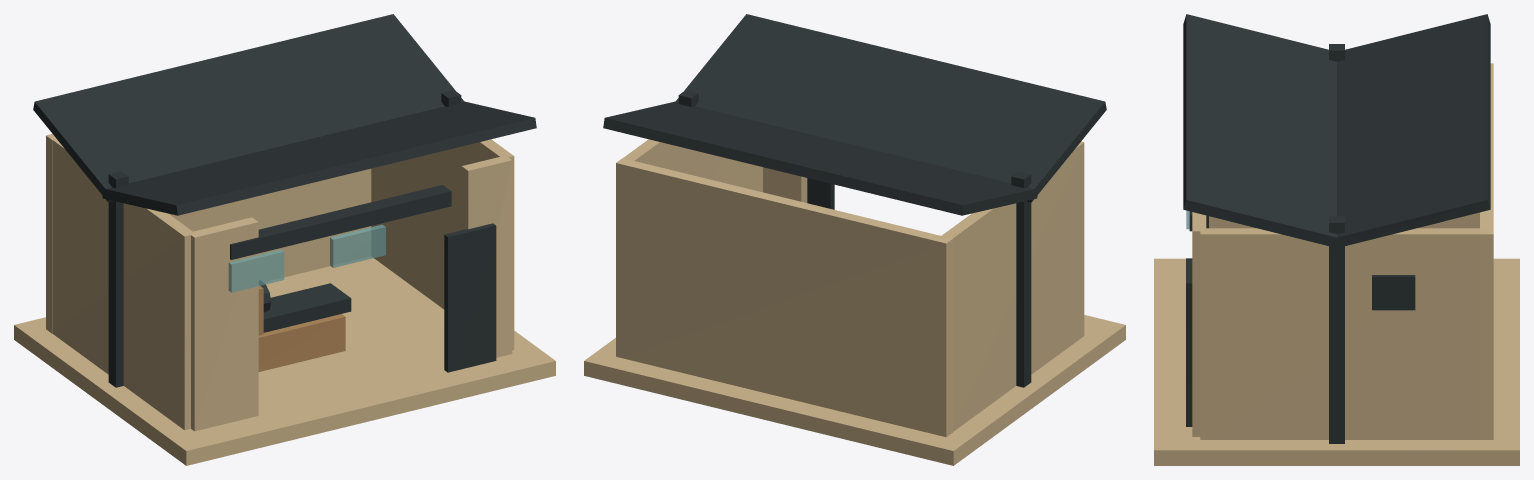
Rendered from Machine-Shop.glb.
The picture shows the model from 3 angles, left to right: view 1: azimuth 30°, elevation 25°; view 2: azimuth 150°, elevation 25°; view 3: azimuth 270°, elevation 25°; orthographic projection. The views are drawn at different scales.
Parts seen in each view (by area): view 1: machine-shop-static-machine-shop-charcoal-frame, machine-shop-static-machine-shop-cream-panels, machine-shop-static-machine-shop-pale-concrete, machine-shop-static-machine-shop-muted-teal-machine, machine-shop-static-machine-shop-high-window-glass; view 2: machine-shop-static-machine-shop-cream-panels, machine-shop-static-machine-shop-charcoal-frame, machine-shop-static-machine-shop-pale-concrete; view 3: machine-shop-static-machine-shop-charcoal-frame, machine-shop-static-machine-shop-cream-panels, machine-shop-static-machine-shop-pale-concrete.
Part boxes in pixels (x1,y1,x2,y2): machine-shop-static-machine-shop-charcoal-frame: (33,14,536,387); machine-shop-static-machine-shop-cream-panels: (46,134,514,431); machine-shop-static-machine-shop-pale-concrete: (14,256,555,465); machine-shop-static-machine-shop-muted-teal-machine: (258,285,345,371); machine-shop-static-machine-shop-high-window-glass: (228,224,385,292); machine-shop-static-machine-shop-cream-panels: (616,139,1084,437); machine-shop-static-machine-shop-charcoal-frame: (603,14,1106,387); machine-shop-static-machine-shop-pale-concrete: (584,315,1125,465); machine-shop-static-machine-shop-charcoal-frame: (1183,14,1490,443); machine-shop-static-machine-shop-cream-panels: (1192,63,1493,439); machine-shop-static-machine-shop-pale-concrete: (1154,258,1519,465).
Bounding box in the file's own units: 5.2 × 3.34 × 4.2.
